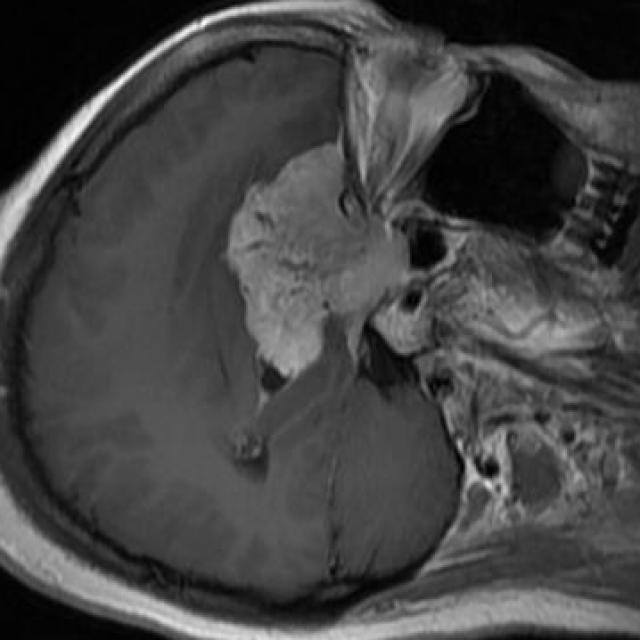meningioma: (228, 144, 398, 380)
